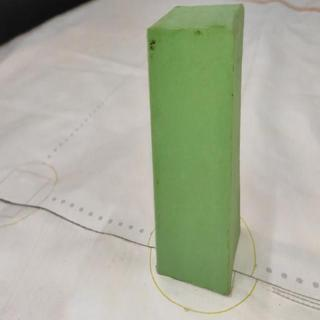greenbox: (146, 5, 244, 297)
